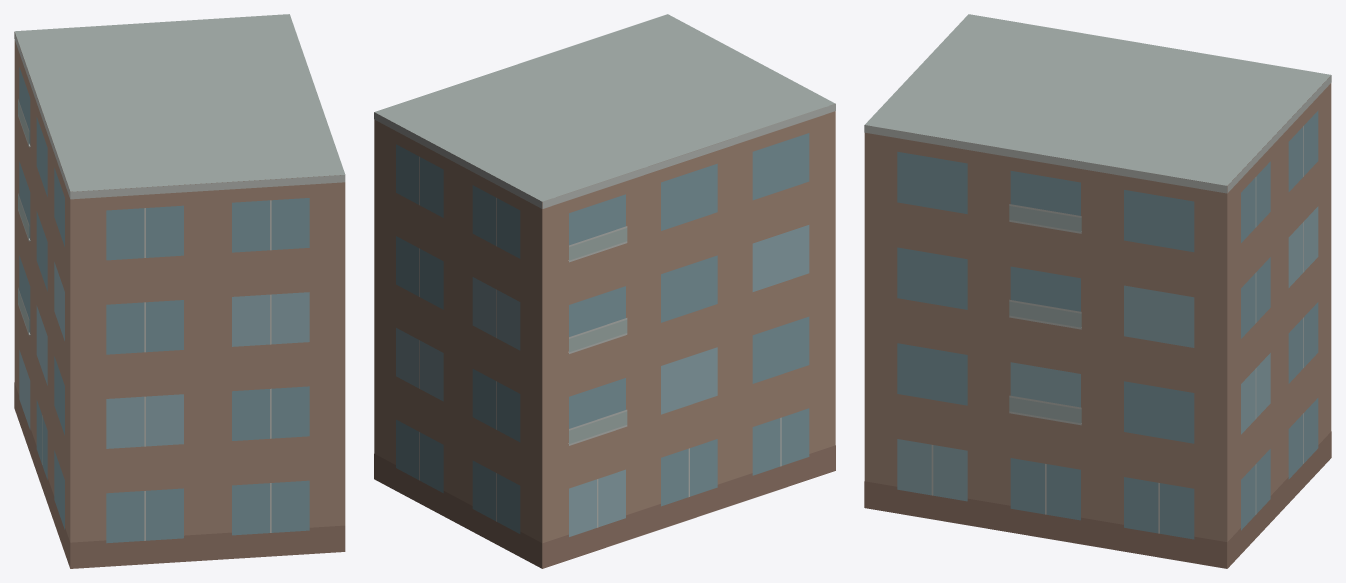
Rendered from residential-822c8c43-3fcc-4a79-897d-58207824a137.glb.
3 renders of one model, left to right at view 1: azimuth 30°, elevation 25°; view 2: azimuth 150°, elevation 25°; view 3: azimuth 270°, elevation 25°, orthographic. The views are drawn at different scales.
Visible parts, largest first — view 1: residential-822c8c43-3fcc-4a79-897d-58207824a137.tmp; view 2: residential-822c8c43-3fcc-4a79-897d-58207824a137.tmp; view 3: residential-822c8c43-3fcc-4a79-897d-58207824a137.tmp.
Part boxes in pixels (x1,y1,x2,y2): residential-822c8c43-3fcc-4a79-897d-58207824a137.tmp: (14, 14, 345, 568); residential-822c8c43-3fcc-4a79-897d-58207824a137.tmp: (374, 14, 835, 568); residential-822c8c43-3fcc-4a79-897d-58207824a137.tmp: (864, 14, 1331, 568).
Bounding box in the file's own units: 11.75 × 12.2 × 13.49.
